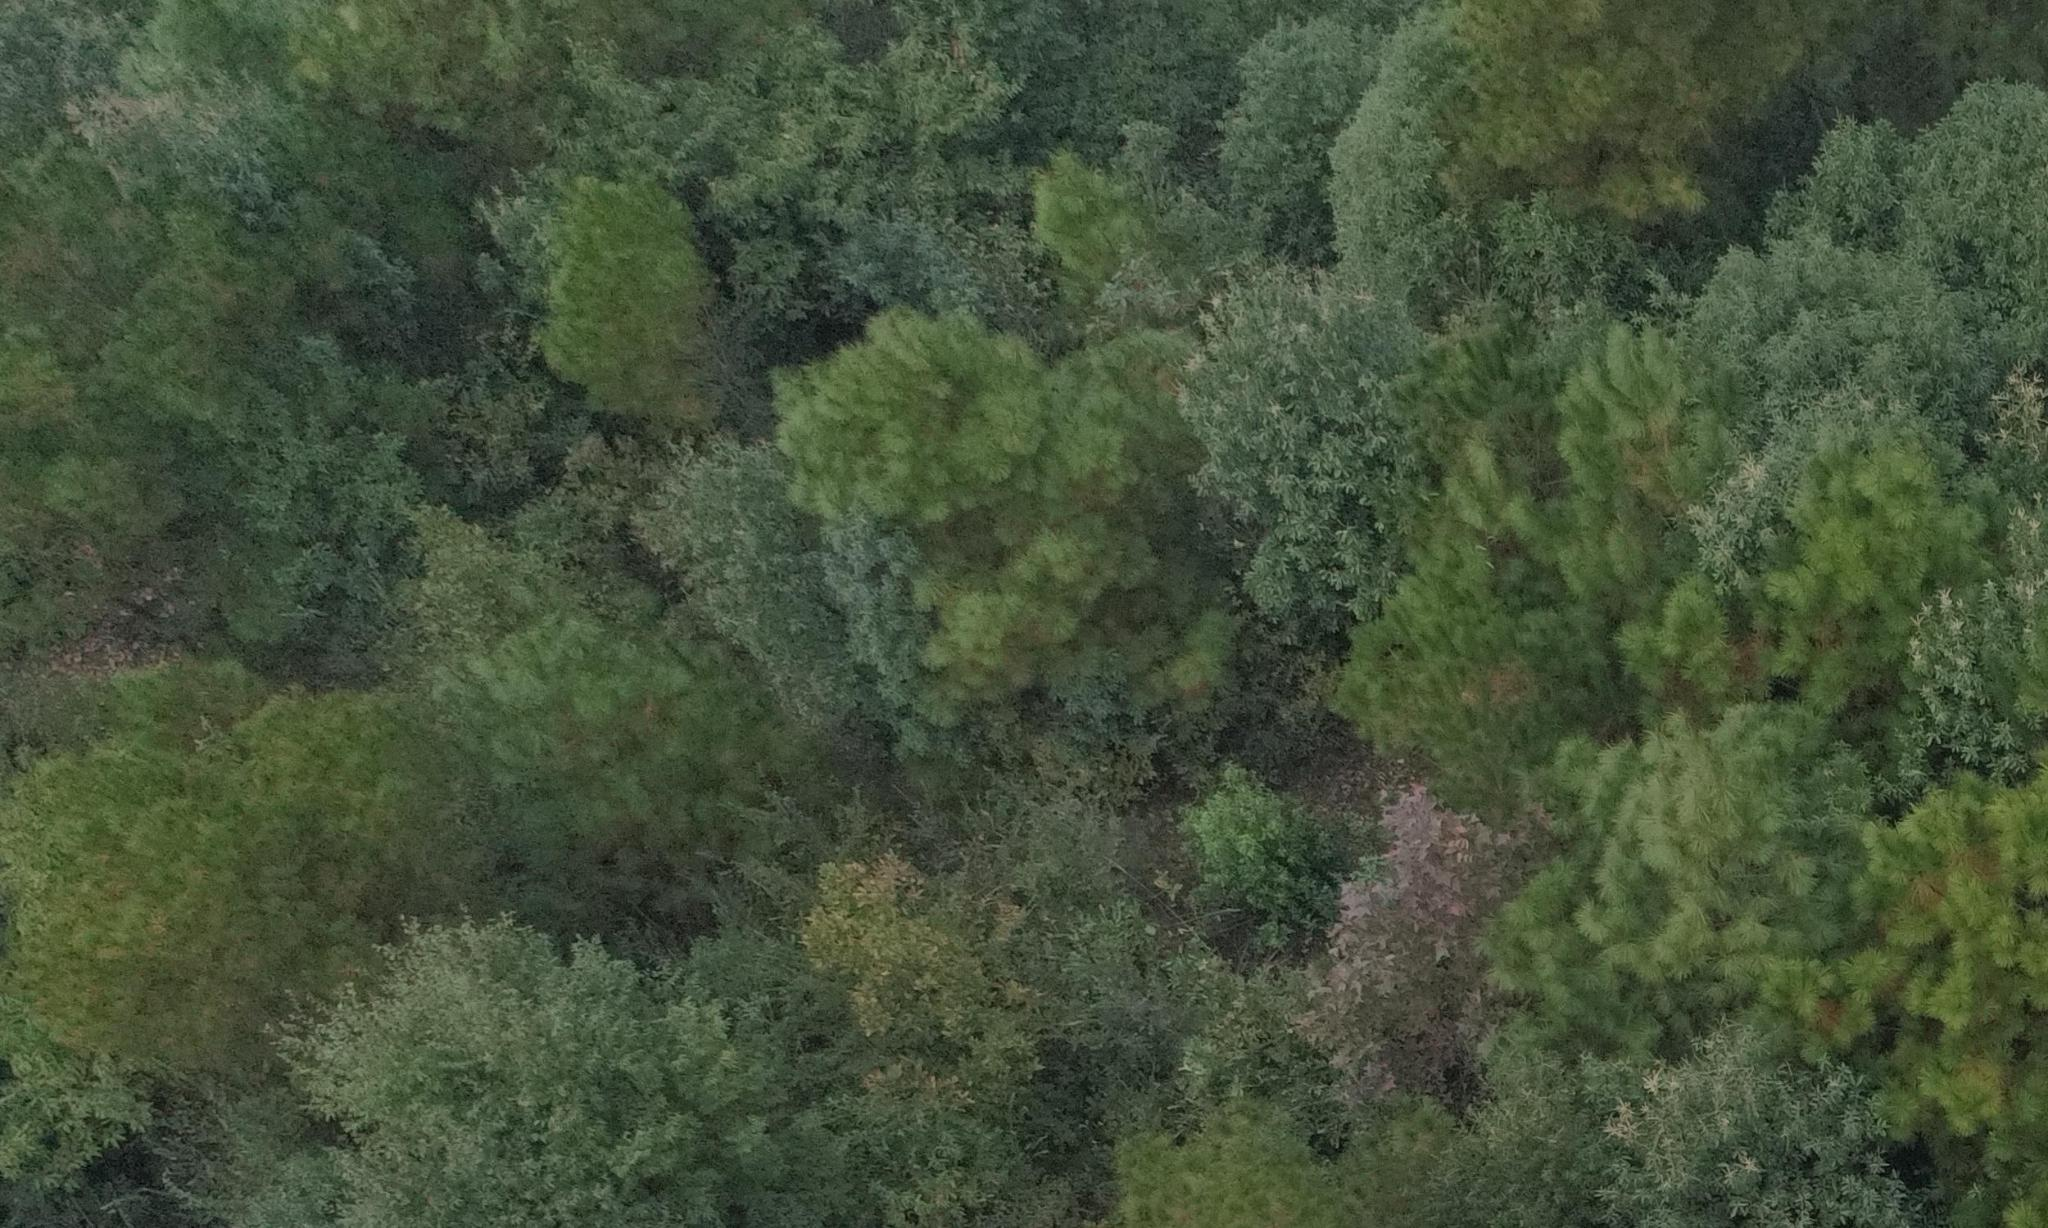light: (1798, 804, 2000, 1091), (1602, 575, 1854, 743)
